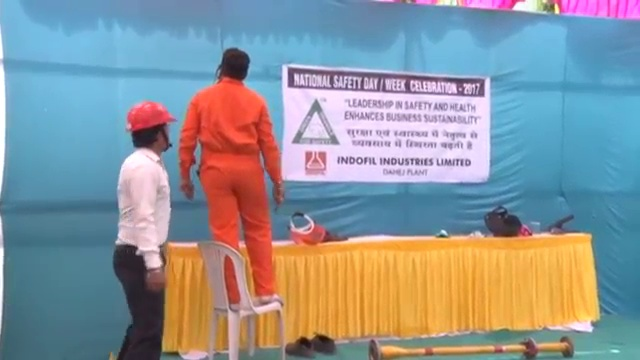helmet: (126, 99, 177, 130)
helmet_off: (215, 45, 253, 86)
helmet_on: (125, 99, 177, 152)
person: (178, 45, 288, 305), (102, 97, 184, 360)
